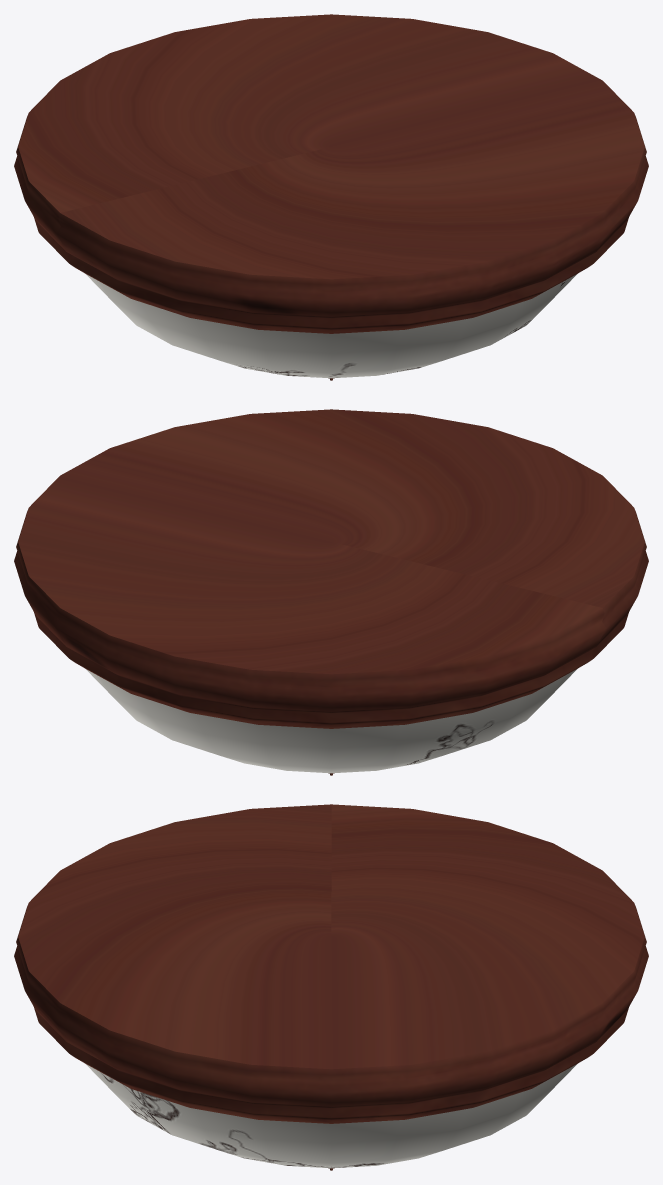
File: aws_LightA_01_visual.DAE
3 views of the same model, one above another, from view 1: azimuth 30°, elevation 25°; view 2: azimuth 150°, elevation 25°; view 3: azimuth 270°, elevation 25° (orthographic).
Parts seen in each view (by area): view 1: aws_LightA_01_visual; view 2: aws_LightA_01_visual; view 3: aws_LightA_01_visual.
Boxes of the visible parts, left/top/right/bottom form: aws_LightA_01_visual: left=14, top=14, right=648, bottom=380; aws_LightA_01_visual: left=14, top=409, right=648, bottom=775; aws_LightA_01_visual: left=14, top=804, right=648, bottom=1170.
Size of the model in its own units: 38.77 by 38.77 by 15.71.
Materials: 1 (1 with a texture image).
